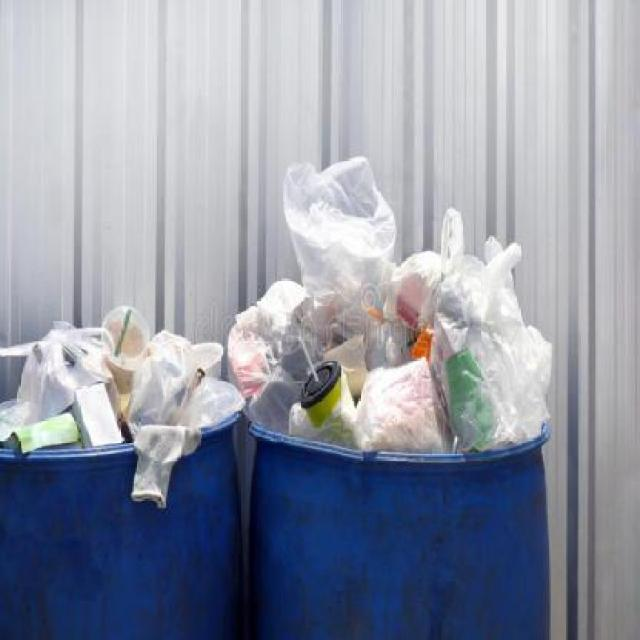garbage container: (247, 412, 561, 639), (1, 401, 245, 639)
